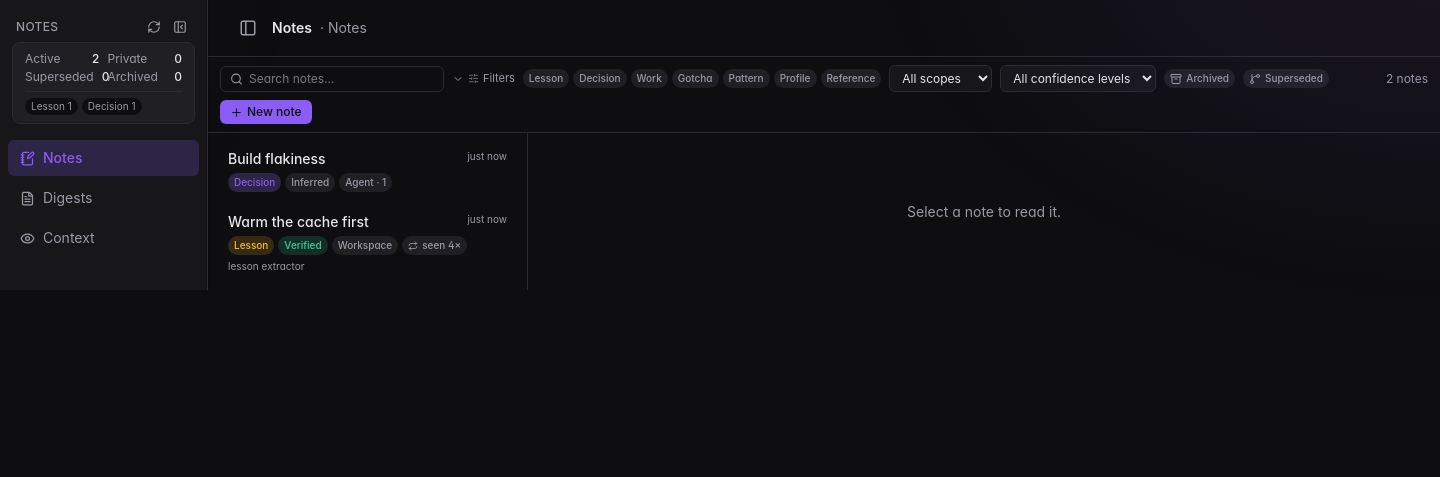
it: NotesPanel › lists notes newest first with their badges and opens the selected note with its links
Click the button with test id "note-row" that starts with "Warm the cache first" at (368, 243), box [216,204,519,282]
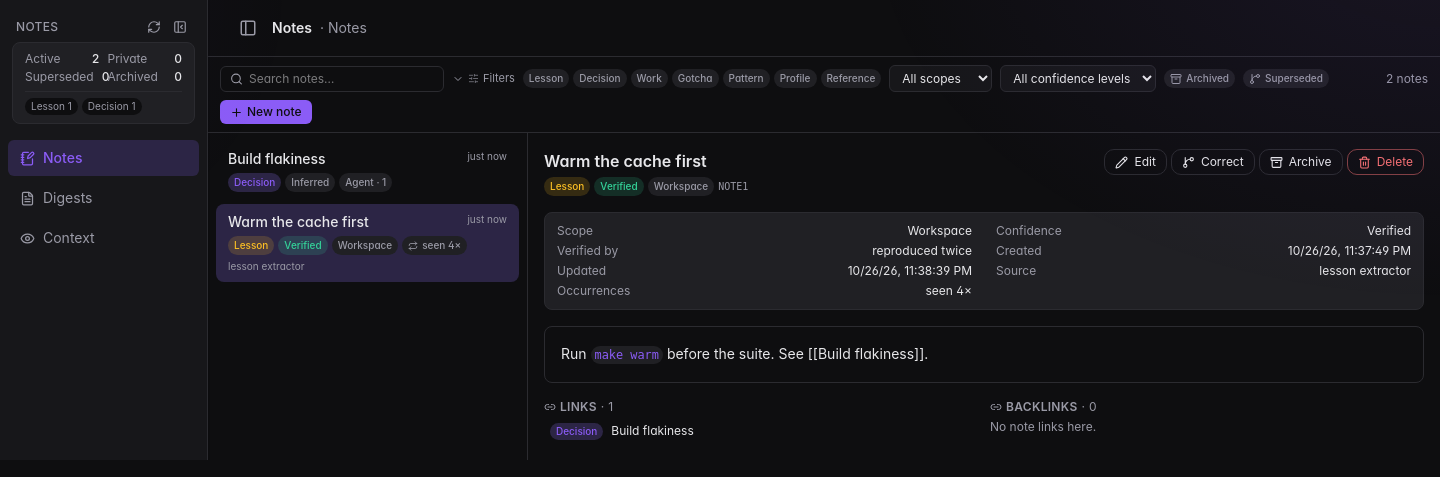
Expected: the element with test id "note-detail" shows "Warm the cache first", [544,151,707,171]
Expected: the element with test id "note-detail" shows "reproduced twice", [872,243,972,258]
Expected: the element with test id "note-detail" shows "Build flakiness", [544,419,978,444]
